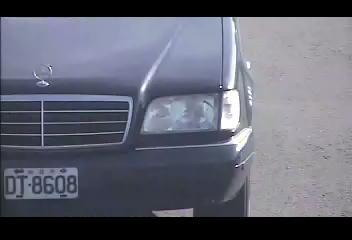plate: (2, 166, 79, 200)
